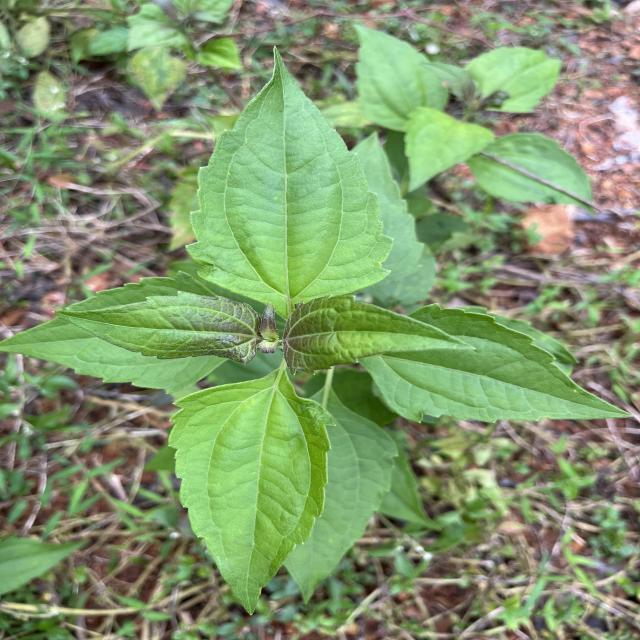Chromolaena odorata: (181, 42, 401, 323), (162, 366, 341, 619), (49, 287, 271, 366)
